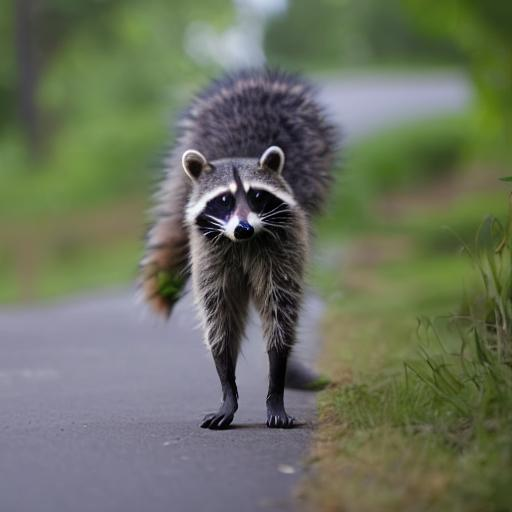raccoon: (145, 82, 332, 352)
